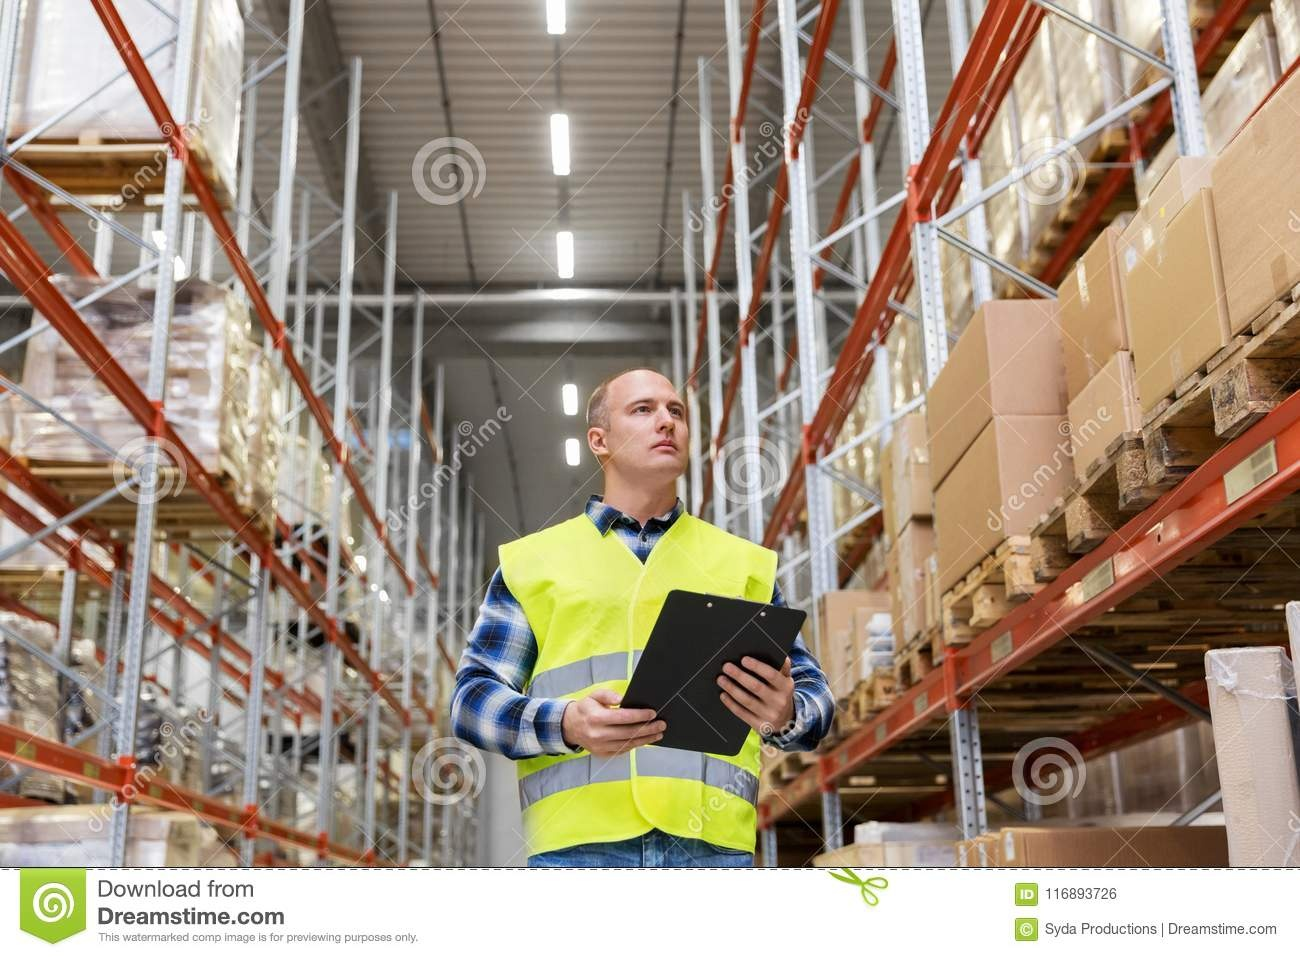person with partial safety: (464, 376, 797, 865)
safety vest: (506, 511, 766, 846)
